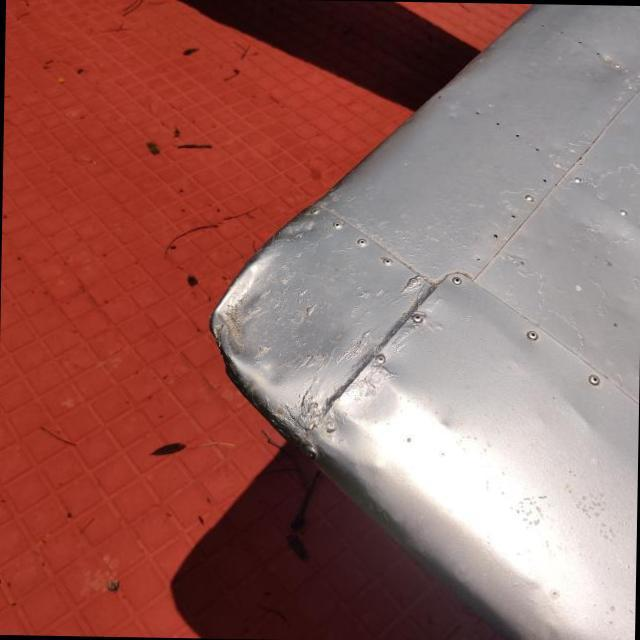dent: (210, 209, 340, 397), (336, 371, 402, 434)
